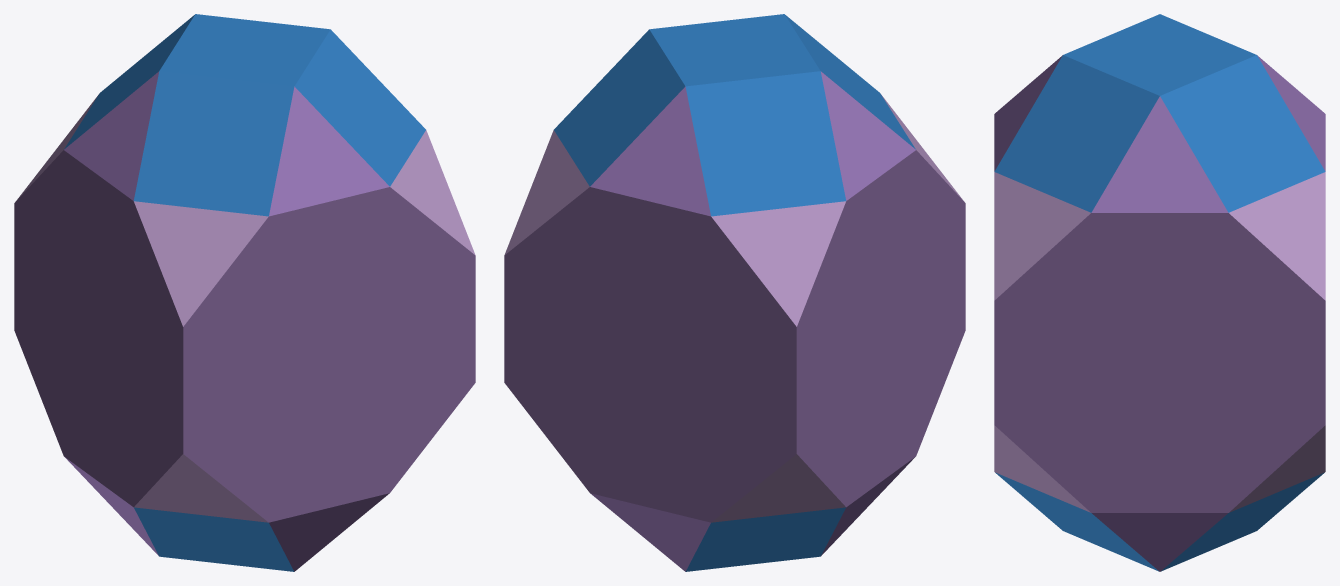
File: J67.CuboTruncadoBiaumentado.gltf
3 renders of one model, left to right at view 1: azimuth 30°, elevation 25°; view 2: azimuth 150°, elevation 25°; view 3: azimuth 270°, elevation 25°, orthographic. The views are drawn at different scales.
Visible parts, largest first — view 1: J67.CuboTruncadoBiaumentado; view 2: J67.CuboTruncadoBiaumentado; view 3: J67.CuboTruncadoBiaumentado.
Part boxes in pixels (bbox=[...]): J67.CuboTruncadoBiaumentado: bbox=[14, 14, 475, 571]; J67.CuboTruncadoBiaumentado: bbox=[504, 14, 965, 571]; J67.CuboTruncadoBiaumentado: bbox=[994, 14, 1325, 571].
Size of the model in its own units: 11.83 by 18.76 by 11.83.
